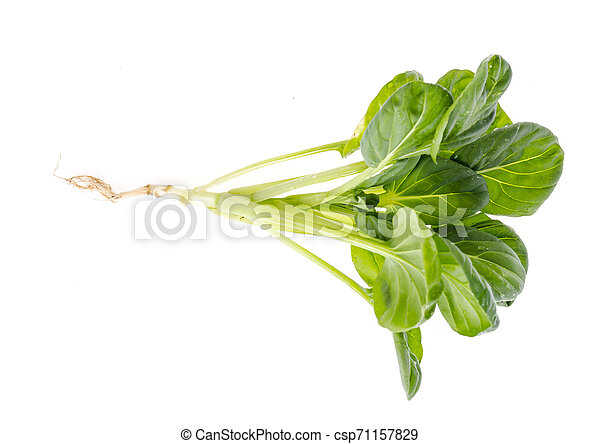Bayam: (29, 53, 555, 400)
